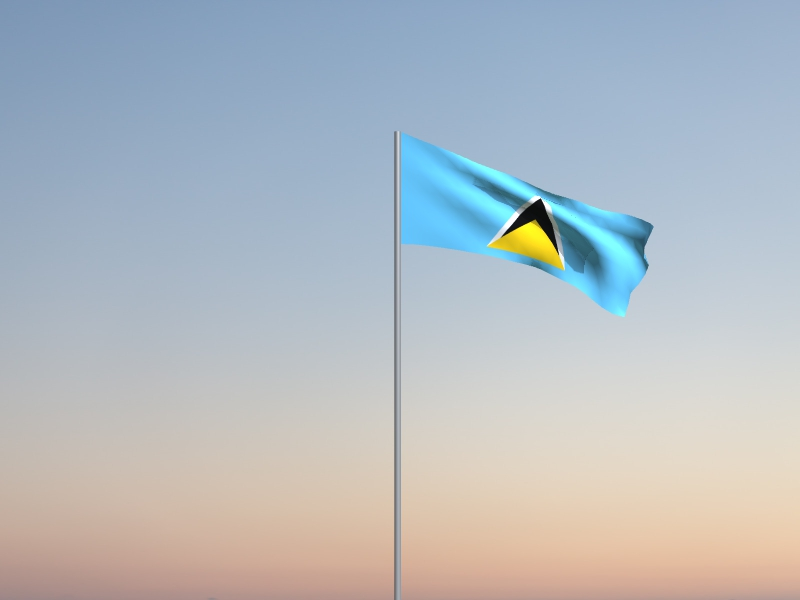lc: (402, 132, 656, 319)
